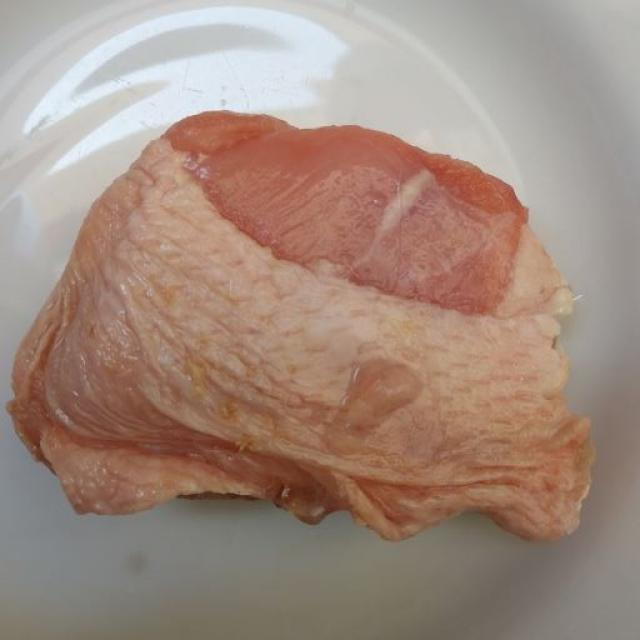chicken: (0, 87, 601, 555)
